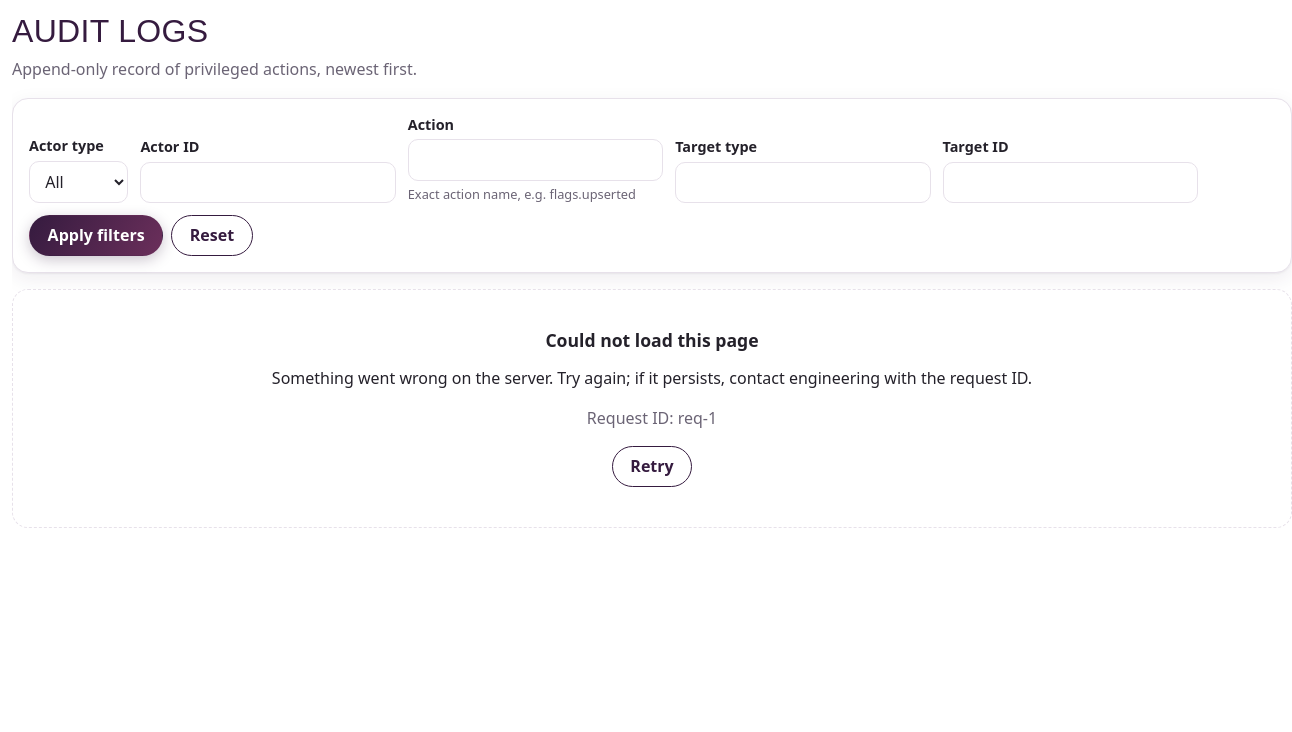
Scenario: AuditLogsPage › shows an error state with retry
Expected: the text "Something went wrong on the server. Try again; if it persists, contact engineering with the request ID." is shown, [272,368,1032,390]
Click the button "Retry" at (652, 466), box [612,446,692,487]
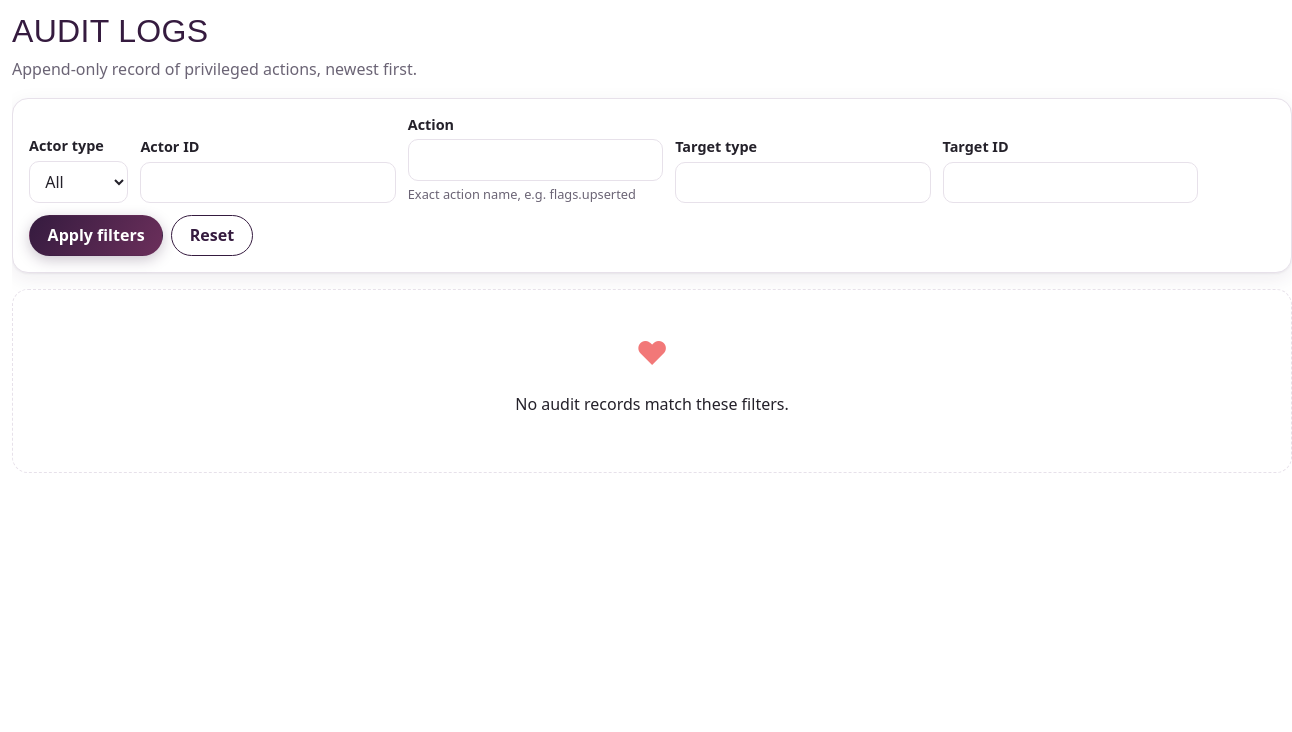
Now the text "No audit records match these filters." is shown, box [515,393,789,415]
